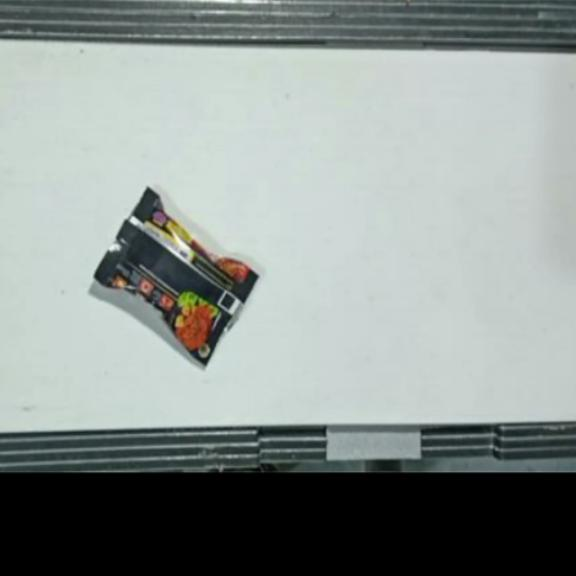Plastik: (94, 187, 259, 367)
